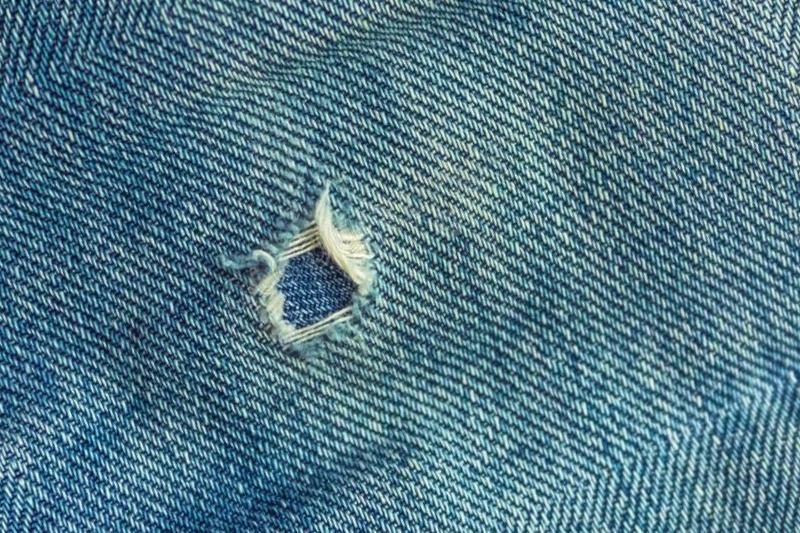hole: (247, 227, 384, 349)
